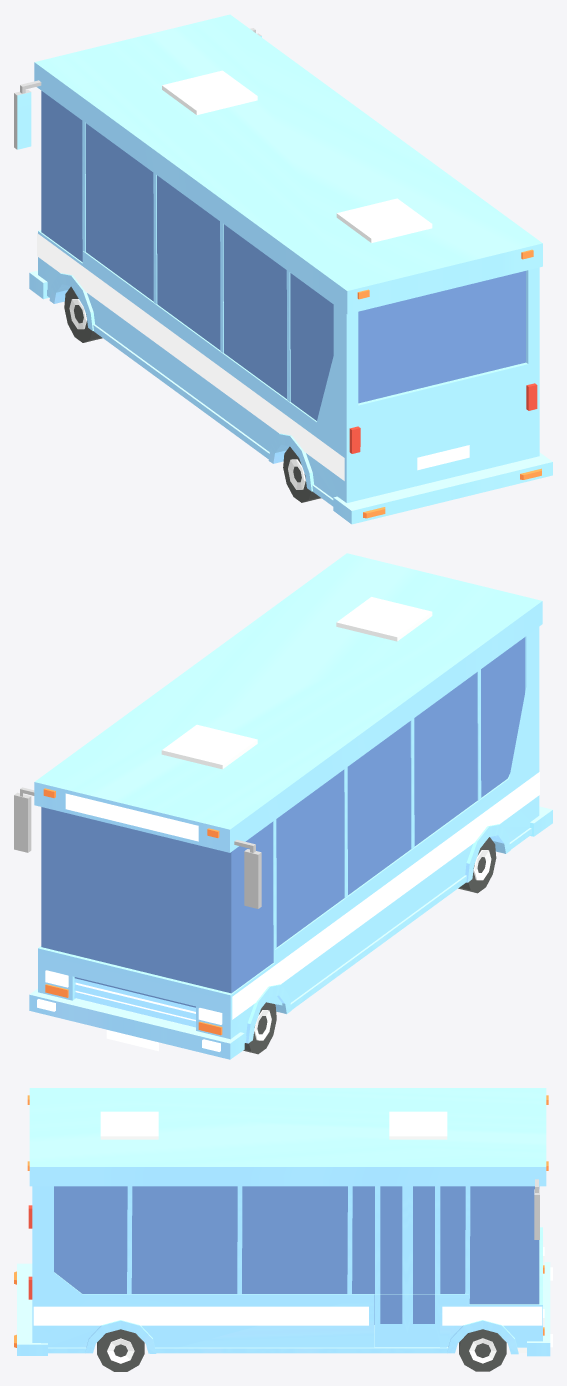
File: transport_bus.006.glb
3 renders of one model, top to bottom at view 1: azimuth 30°, elevation 25°; view 2: azimuth 150°, elevation 25°; view 3: azimuth 270°, elevation 25°, orthographic. The views are drawn at different scales.
Parts seen in each view (by area): view 1: transport_bus.006(Clone); view 2: transport_bus.006(Clone); view 3: transport_bus.006(Clone).
Part boxes in pixels (x1,y1,x2,y2): transport_bus.006(Clone): (14, 14, 552, 524); transport_bus.006(Clone): (14, 553, 552, 1059); transport_bus.006(Clone): (14, 1088, 552, 1371).
Size of the model in its own units: 2.19 by 2.19 by 5.06.
Materials: 1 (1 with a texture image).
